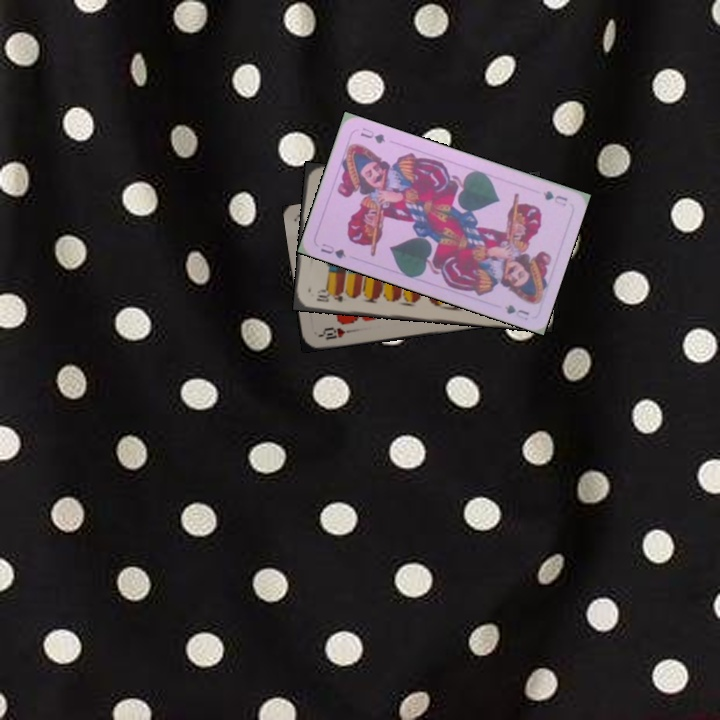E10: (312, 287, 345, 305)
GU: (539, 186, 570, 209), (317, 239, 349, 261)
H10: (314, 324, 355, 342)
